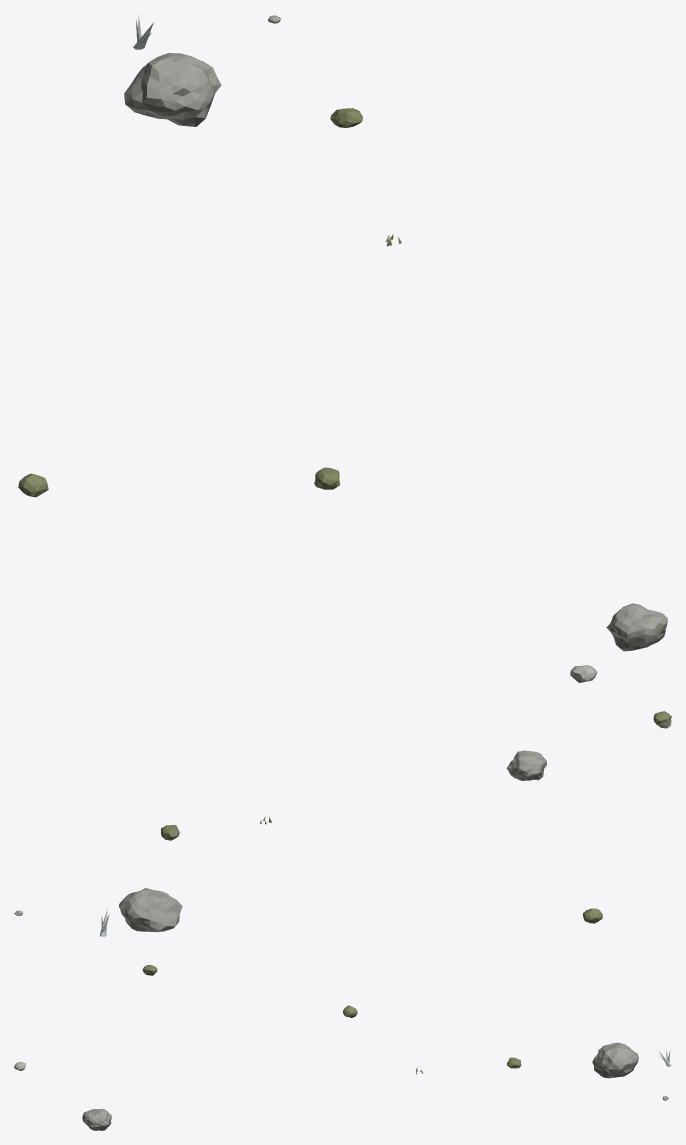
The model's file is coast_land_scatter_c14_19.glb.
The picture shows the model from 3 angles, top to bottom: view 1: azimuth 30°, elevation 25°; view 2: azimuth 150°, elevation 25°; view 3: azimuth 270°, elevation 25°; orthographic projection. The views are drawn at different scales.
Parts seen in each view (by area): view 1: coast_land_scatter_c14_19; view 2: coast_land_scatter_c14_19; view 3: coast_land_scatter_c14_19.
Part boxes in pixels (<box>): coast_land_scatter_c14_19: <box>18,14,667,682</box>; coast_land_scatter_c14_19: <box>14,711,671,936</box>; coast_land_scatter_c14_19: <box>14,965,671,1130</box>.
Bounding box in the file's own units: 38.35 × 12.84 × 75.79.
